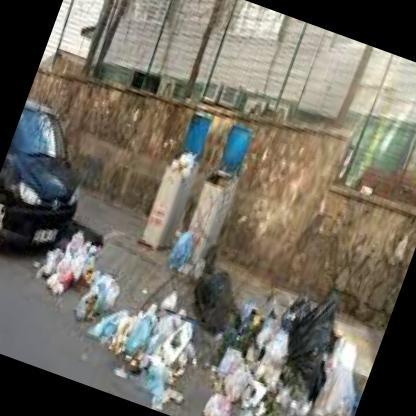Garbage: (68, 292, 202, 413), (22, 224, 141, 343), (246, 282, 350, 387), (185, 344, 308, 415), (104, 304, 160, 387), (36, 239, 96, 307), (224, 296, 260, 364), (68, 278, 112, 328), (156, 313, 198, 365), (136, 360, 178, 408), (38, 262, 80, 304), (195, 382, 242, 415), (167, 141, 200, 176), (164, 233, 192, 269), (245, 407, 274, 415)
